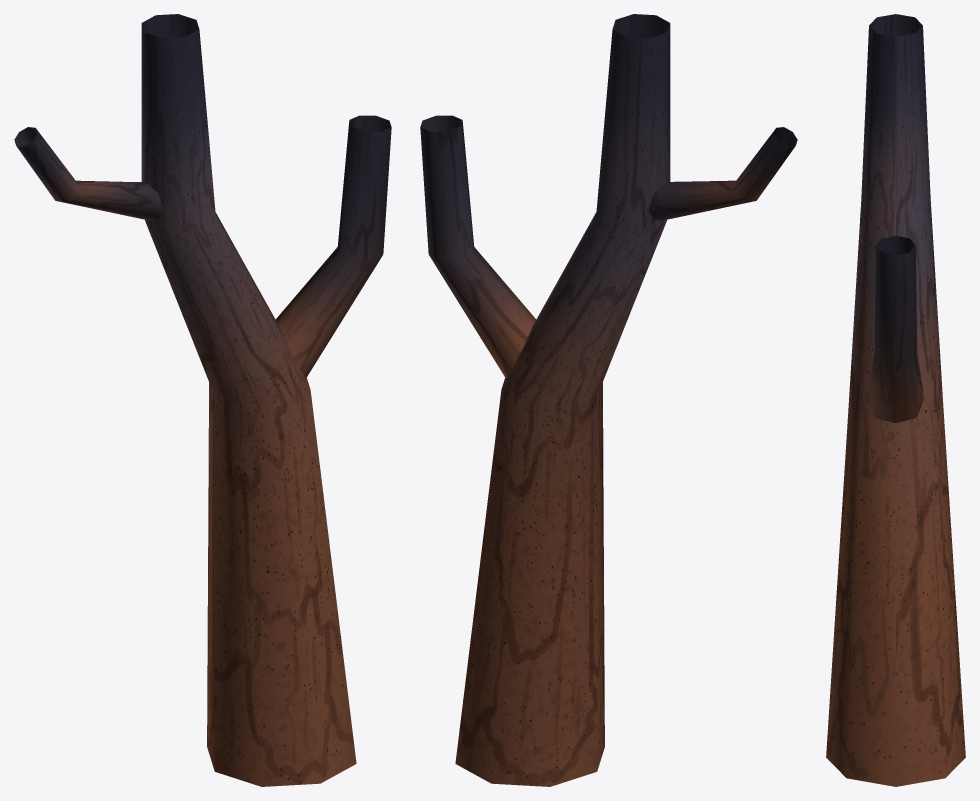
The model's file is Tree2.fbx.
3 renders of one model, left to right at view 1: azimuth 30°, elevation 25°; view 2: azimuth 150°, elevation 25°; view 3: azimuth 270°, elevation 25°, orthographic. The views are drawn at different scales.
Parts seen in each view (by area): view 1: Cylinder.002; view 2: Cylinder.002; view 3: Cylinder.002.
Part boxes in pixels (x1,y1,x2,y2): Cylinder.002: [14, 14, 391, 786]; Cylinder.002: [420, 14, 797, 786]; Cylinder.002: [826, 14, 965, 786].
Size of the model in its own units: 516 by 1000 by 185.
